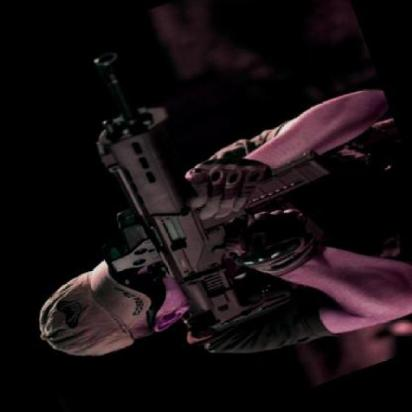Gun: (63, 0, 356, 351)
